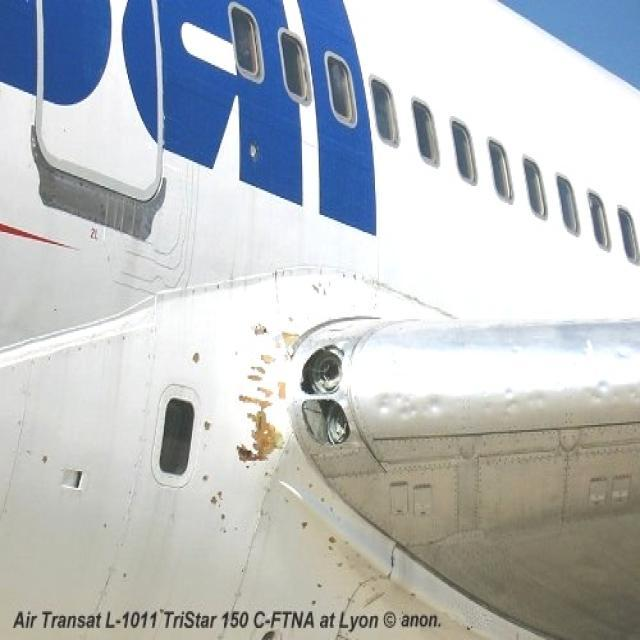dent: (375, 348, 640, 426)
